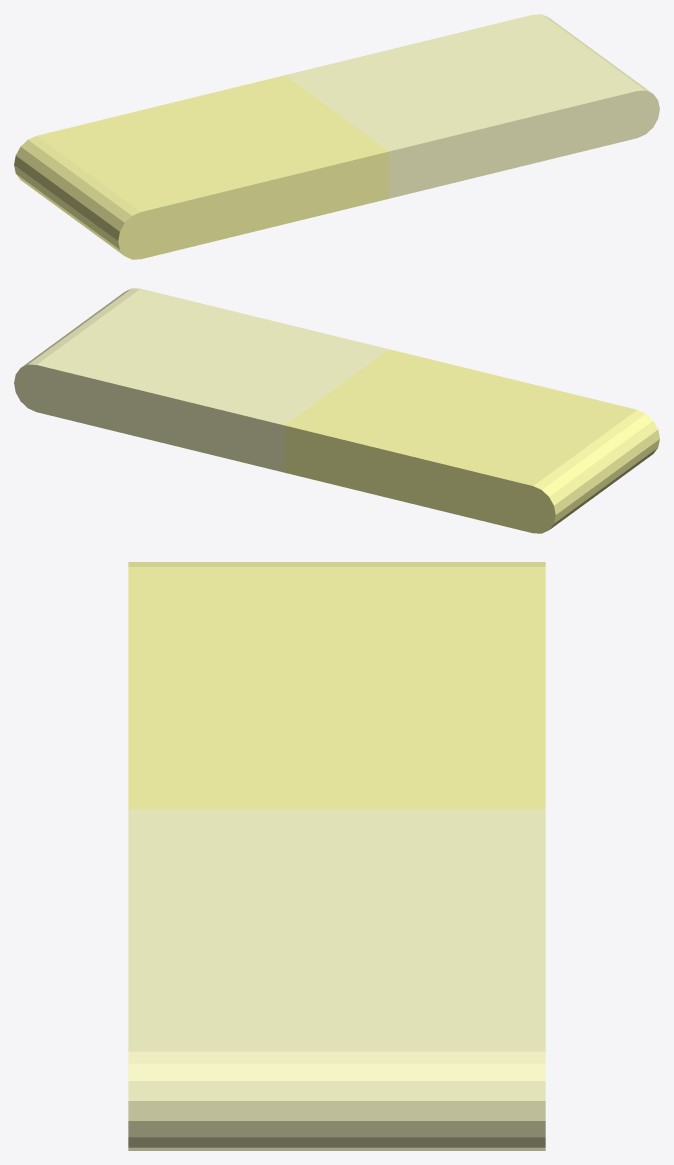
File: island-plate-oval-small.fbx
3 views of the same model, one above another, from view 1: azimuth 30°, elevation 25°; view 2: azimuth 150°, elevation 25°; view 3: azimuth 270°, elevation 25° (orthographic). The views are drawn at different scales.
Visible parts, largest first — view 1: Plane; view 2: Plane; view 3: Plane.
Part boxes in pixels (x1,y1,x2,y2): Plane: (14, 14, 659, 259); Plane: (14, 288, 659, 533); Plane: (128, 562, 545, 1150).
Size of the model in its own units: 30000 by 2500 by 10000.
